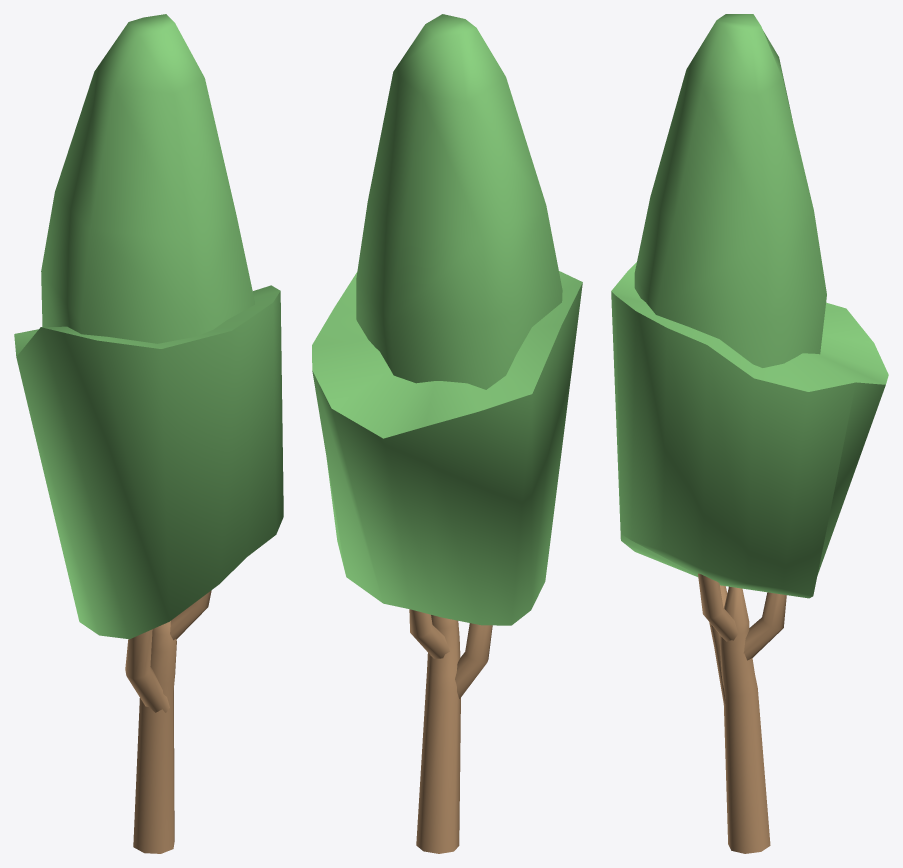
The model's file is Tree_v1.fbx.
3 views of the same model, side by side, from view 1: azimuth 30°, elevation 25°; view 2: azimuth 150°, elevation 25°; view 3: azimuth 270°, elevation 25° (orthographic).
Parts seen in each view (by area): view 1: Polygon_1_1, Sweep_1_1; view 2: Polygon_1_1, Sweep_1_1; view 3: Polygon_1_1, Sweep_1_1.
Boxes of the visible parts, left/top/right/bottom form: Polygon_1_1: left=14, top=14, right=283, bottom=639; Sweep_1_1: left=125, top=590, right=211, bottom=853; Polygon_1_1: left=312, top=14, right=582, bottom=625; Sweep_1_1: left=409, top=609, right=492, bottom=853; Polygon_1_1: left=611, top=14, right=888, bottom=598; Sweep_1_1: left=698, top=573, right=786, bottom=853.
Size of the model in its own units: 117 by 420 by 128.
